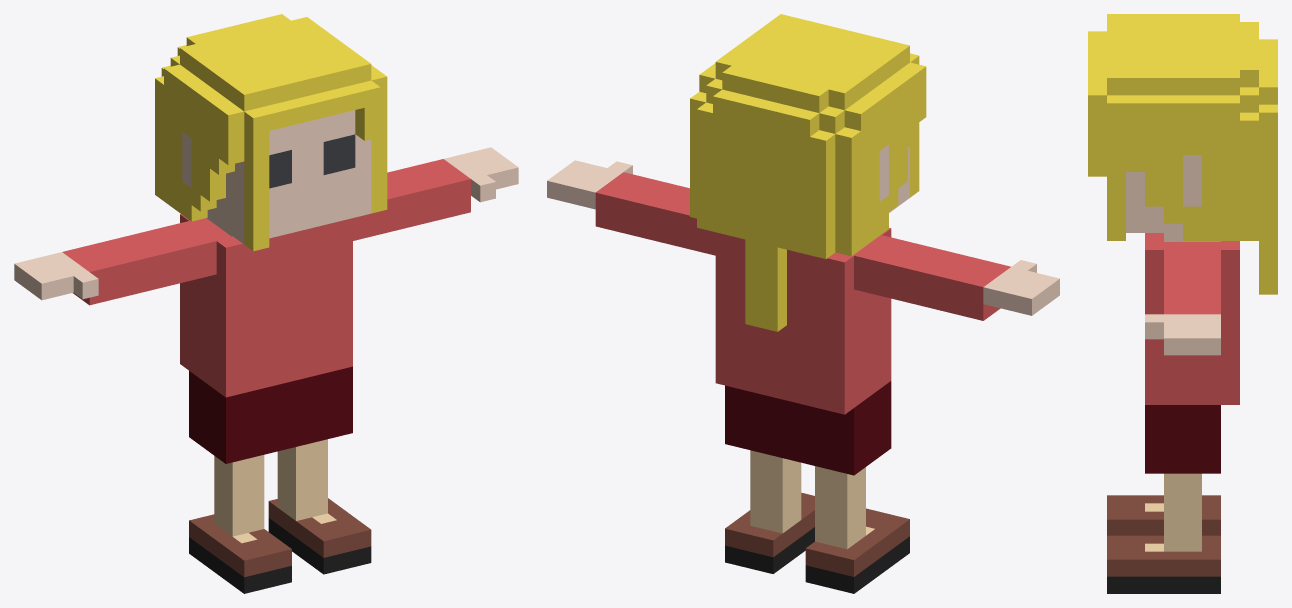
The model's file is student-6.obj.
The picture shows the model from 3 angles, left to right: view 1: azimuth 30°, elevation 25°; view 2: azimuth 150°, elevation 25°; view 3: azimuth 270°, elevation 25°; orthographic projection. The views are drawn at different scales.
Size of the model in its own units: 3 by 3 by 1.
1 material, 1 textured.
